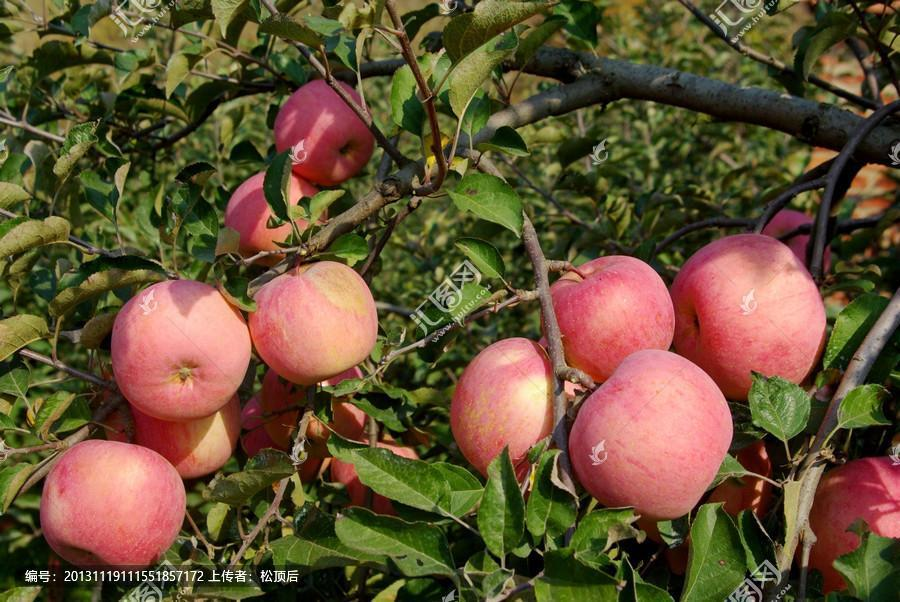apple: (564, 345, 731, 522), (667, 232, 826, 399), (107, 277, 249, 418), (37, 439, 185, 567), (247, 258, 378, 382), (544, 257, 675, 379), (789, 453, 899, 595), (448, 336, 556, 478), (270, 78, 377, 194), (103, 395, 241, 474), (226, 169, 322, 263)
